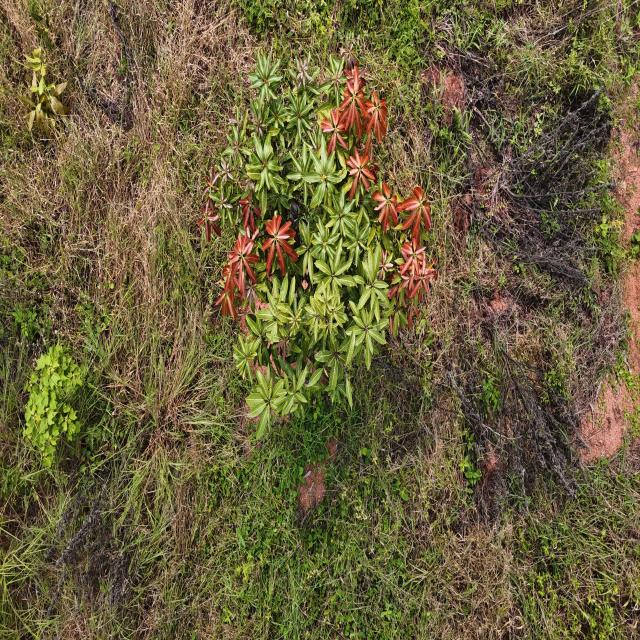mangoTree: (196, 42, 439, 443)
notMangoTree: (23, 340, 90, 472)
